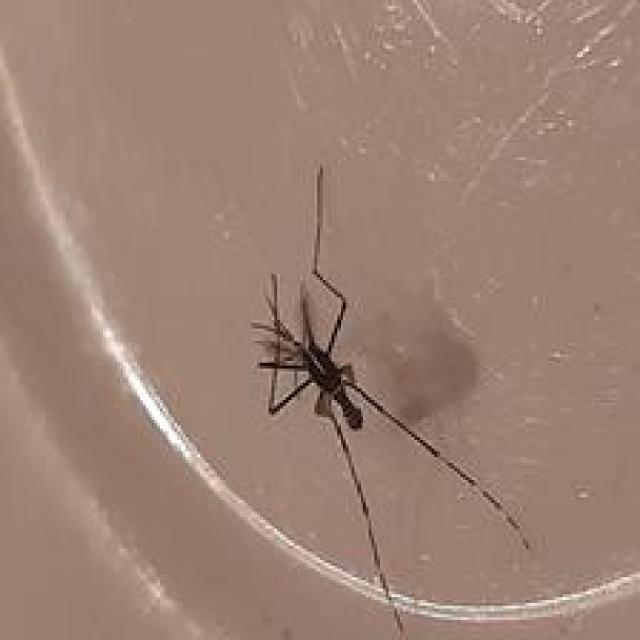Aedes albopictus: (248, 163, 532, 640)
